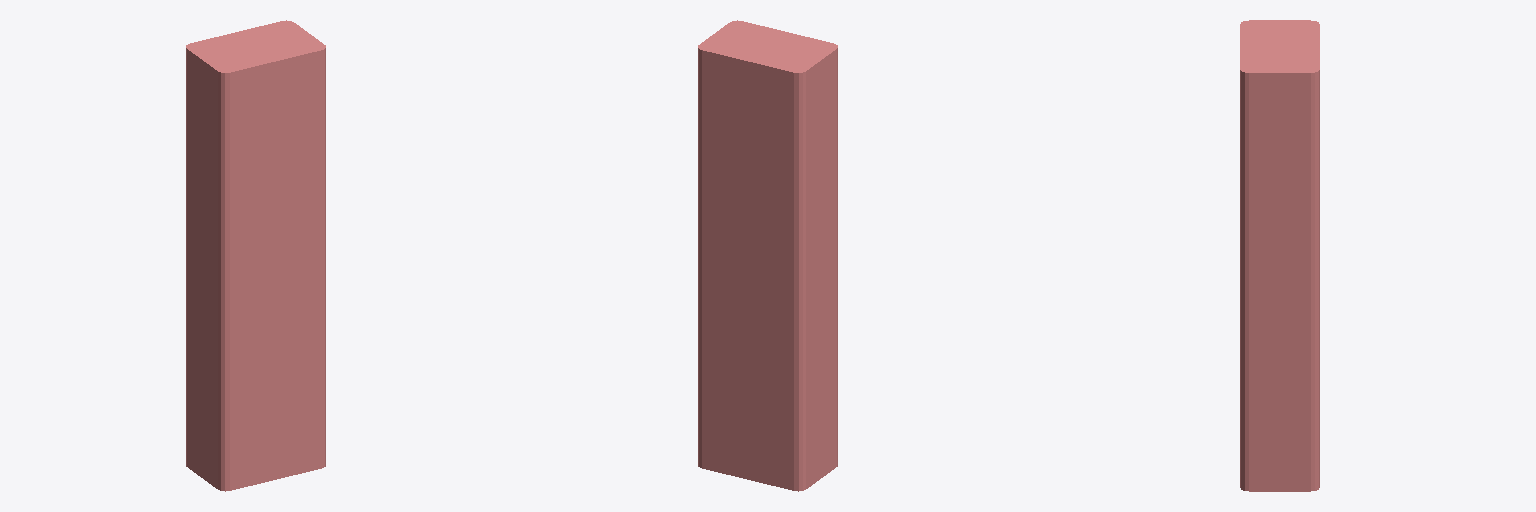
URDF robot description (Medium_Long_Rectangle_JeansRed):
<?xml version="1.0"?>
<robot name="Medium_Long_Rectangle_JeansRed">
    <link name="Medium_Long_Rectangle_JeansRed">
        <visual>
            <geometry>
                <mesh filename="../mesh/factory_insertion/Medium_Long_Rectangle_JeansRed.obj" scale="0.001 0.001 0.001"/>
            </geometry>
            <material name="JeansRed">
              <color rgba="0.91 0.6 0.6 0"/>
            </material>
        </visual>
        <collision>
            <geometry>
                <mesh filename="../mesh/factory_insertion/Medium_Long_Rectangle_JeansRed.obj" scale="0.001 0.001 0.001"/>
            </geometry>
            <sdf resolution="512"/>
        </collision>
    </link>
</robot>

--- Facts derived from the render (not from the file) ---
3 views of the same robot in one strip: view 1: azimuth 30°, elevation 25°; view 2: azimuth 150°, elevation 25°; view 3: azimuth 270°, elevation 25° (orthographic).
Model Medium_Long_Rectangle_JeansRed with 1 links and 0 joints (none), rooted at Medium_Long_Rectangle_JeansRed, posed every joint at zero.
Visible links, largest first — view 1: Medium_Long_Rectangle_JeansRed; view 2: Medium_Long_Rectangle_JeansRed; view 3: Medium_Long_Rectangle_JeansRed.
Link boxes in pixels (x1,y1,x2,y2): Medium_Long_Rectangle_JeansRed: [186, 20, 325, 491]; Medium_Long_Rectangle_JeansRed: [698, 20, 837, 491]; Medium_Long_Rectangle_JeansRed: [1240, 20, 1319, 491].
Size in the robot's own frame: 0.0403 by 0.0259 by 0.15 metres.
Meshes: 1 distinct files referenced, 1 mesh visuals loaded (1 OBJ).
